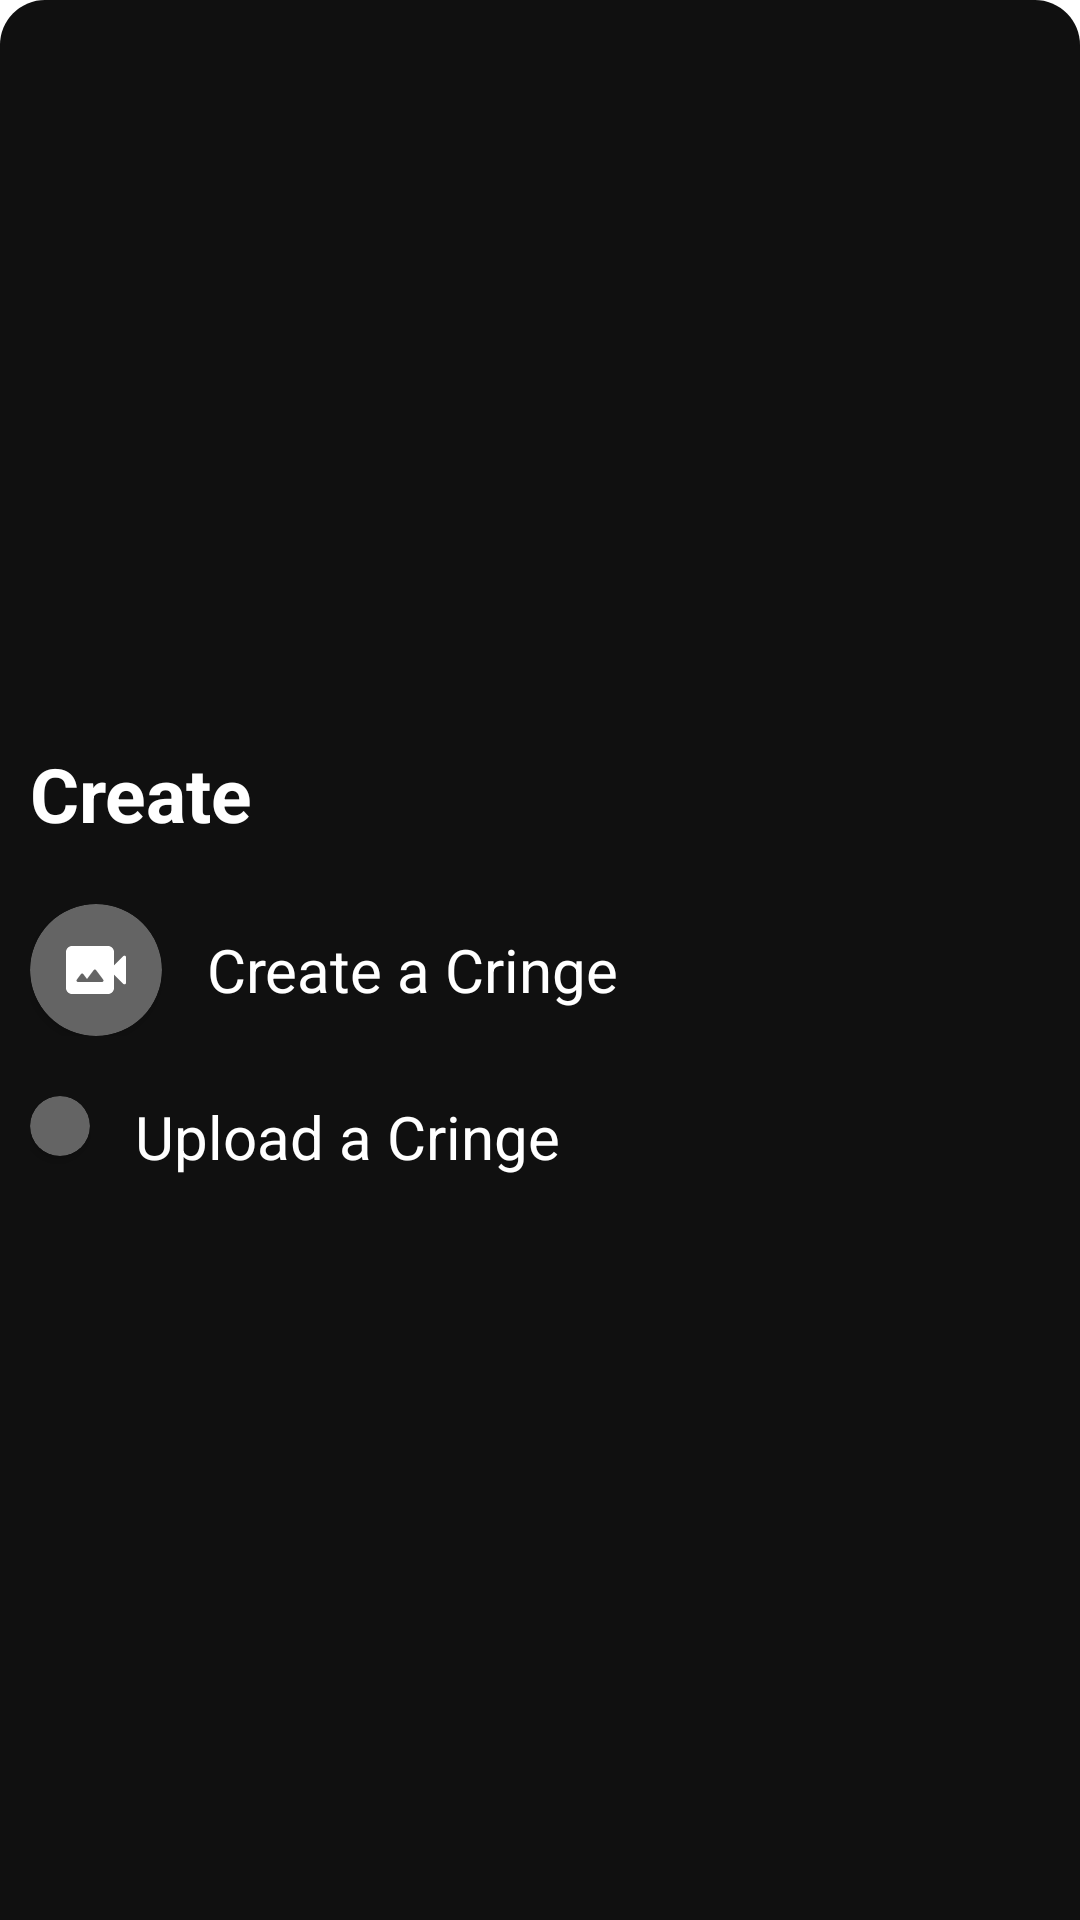

Icon click points for this 1080px x 1920px phone screenshot, format [x,y]:
video camera back: [96,970]
